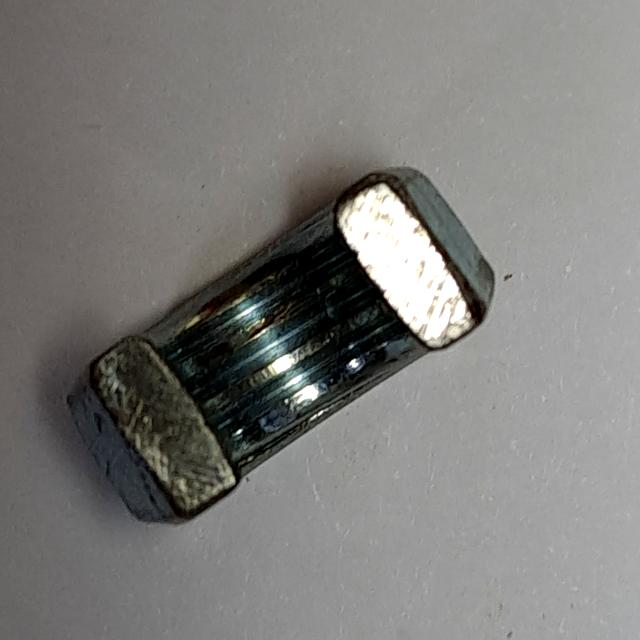Side-Fracture: (53, 155, 502, 539)
